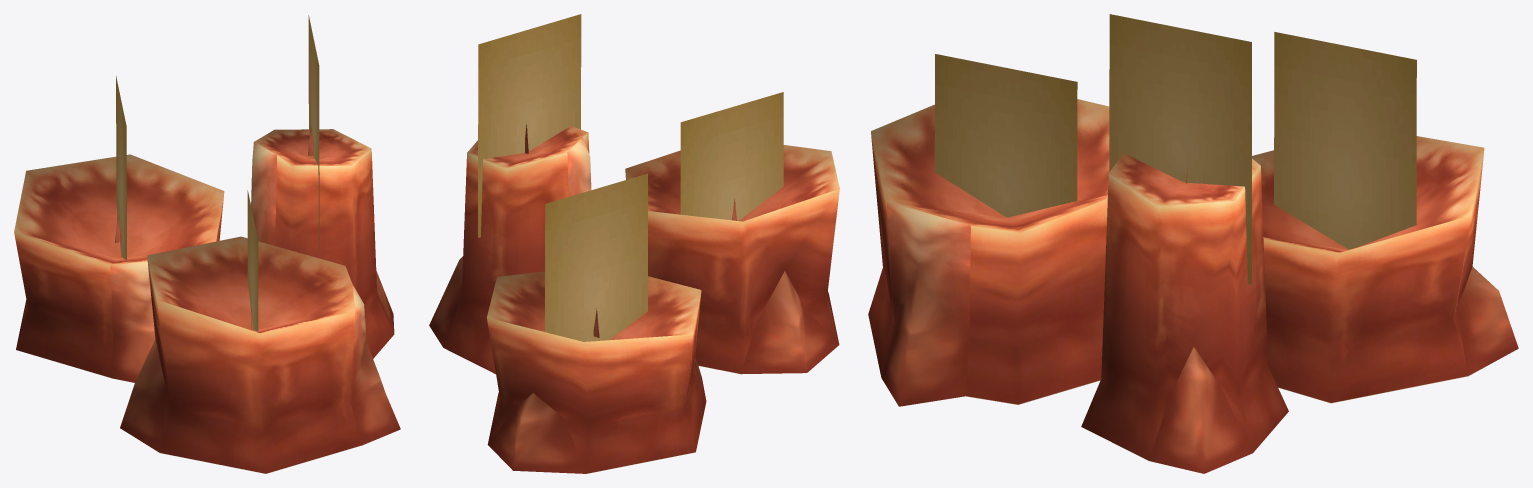
The model's file is snobold_candle_group01.obj.
3 views of the same model, side by side, from view 1: azimuth 30°, elevation 25°; view 2: azimuth 150°, elevation 25°; view 3: azimuth 270°, elevation 25° (orthographic). The views are drawn at different scales.
Visible parts, largest first — view 1: Geoset0, Geoset1; view 2: Geoset0, Geoset1; view 3: Geoset0, Geoset1.
Boxes of the visible parts, left/top/right/bottom form: Geoset0: left=14, top=127, right=400, bottom=473; Geoset1: left=116, top=15, right=319, bottom=331; Geoset0: left=429, top=124, right=839, bottom=473; Geoset1: left=478, top=14, right=783, bottom=341; Geoset0: left=868, top=99, right=1518, bottom=473; Geoset1: left=934, top=14, right=1416, bottom=284.
Bounding box in the file's own units: 0.4985 × 0.453 × 0.6799.
2 materials, 2 textured.
